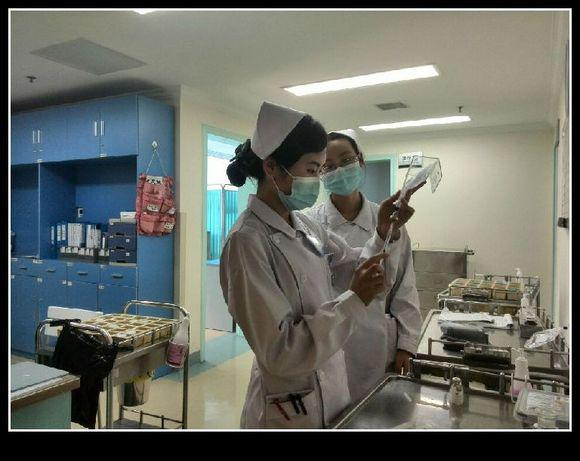OK: (269, 154, 325, 212), (321, 150, 367, 197)
